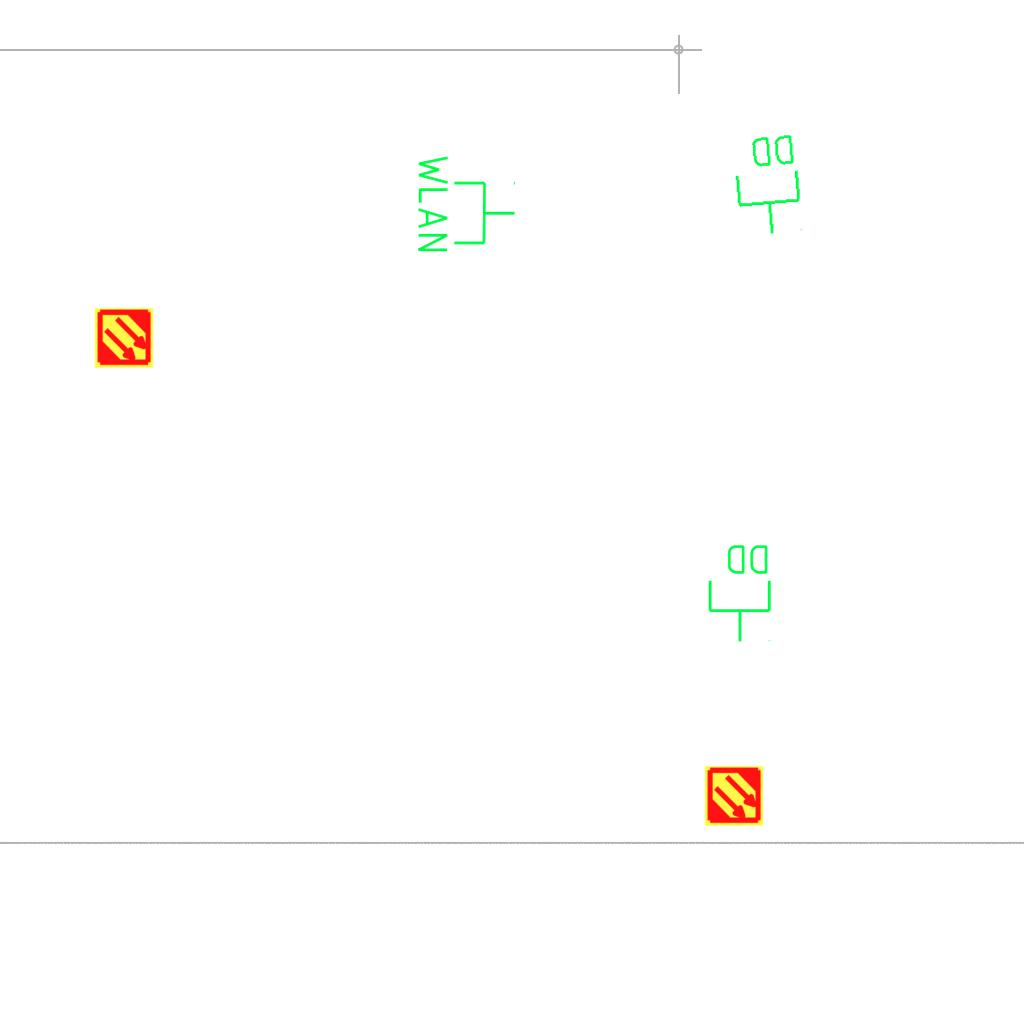ASR_Ansaugrauchmelder: (703, 765, 765, 827), (93, 307, 155, 369)
Datenanschluss_zweifach: (729, 130, 808, 239), (706, 541, 775, 644)
WLAN: (414, 151, 518, 256)
